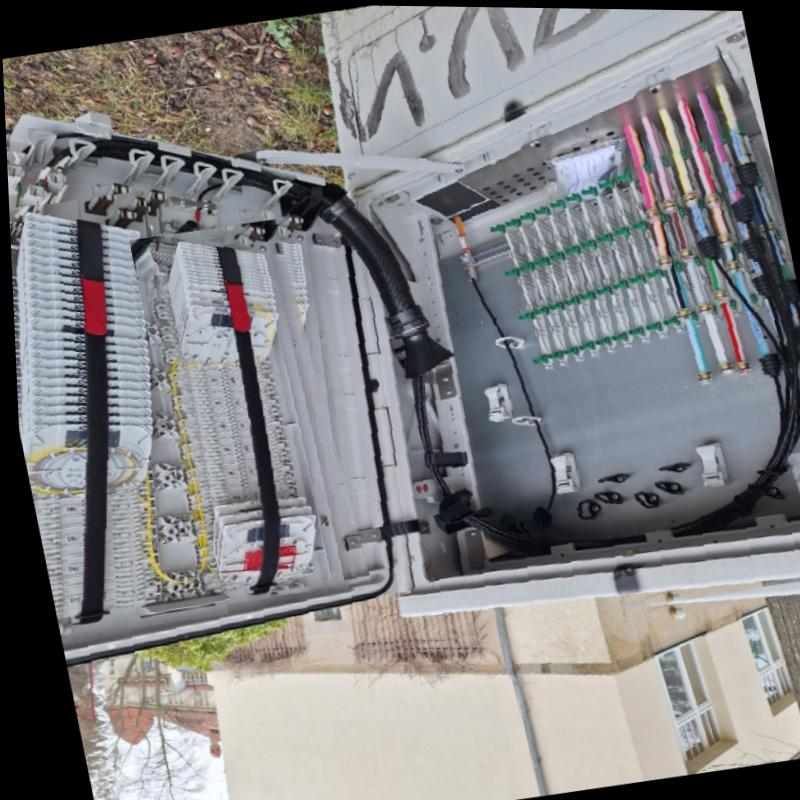NT-Gehause: (4, 4, 800, 664)
Spleiskassetten: (146, 229, 327, 602), (7, 206, 154, 637)
